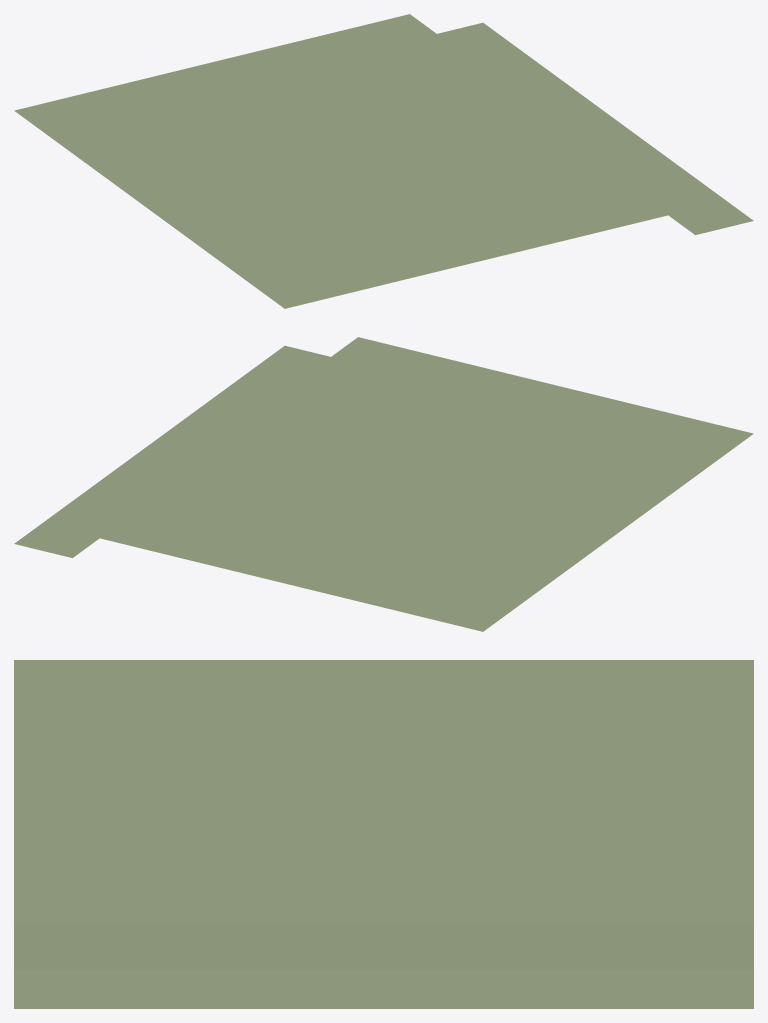
Rendered from canal-0-0.glb.
The picture shows the model from 3 angles, top to bottom: view 1: azimuth 30°, elevation 25°; view 2: azimuth 150°, elevation 25°; view 3: azimuth 270°, elevation 25°; orthographic projection. The views are drawn at different scales.
Parts seen in each view (by area): view 1: canal-0-0; view 2: canal-0-0; view 3: canal-0-0.
Boxes of the visible parts, box(x1,y1,x2,y2) form: canal-0-0: box(14, 14, 753, 308); canal-0-0: box(14, 337, 753, 631); canal-0-0: box(14, 660, 753, 1008).
Bounding box in the file's own units: 128 × 6.9 × 128.
